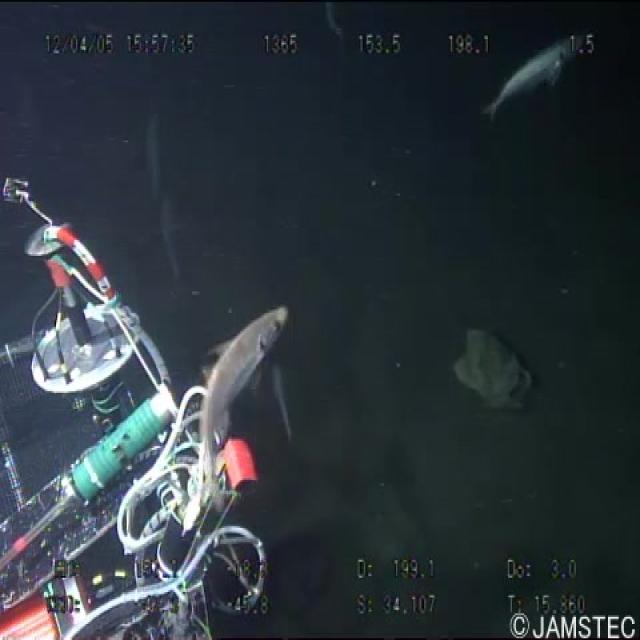plastic: (447, 318, 533, 418)
